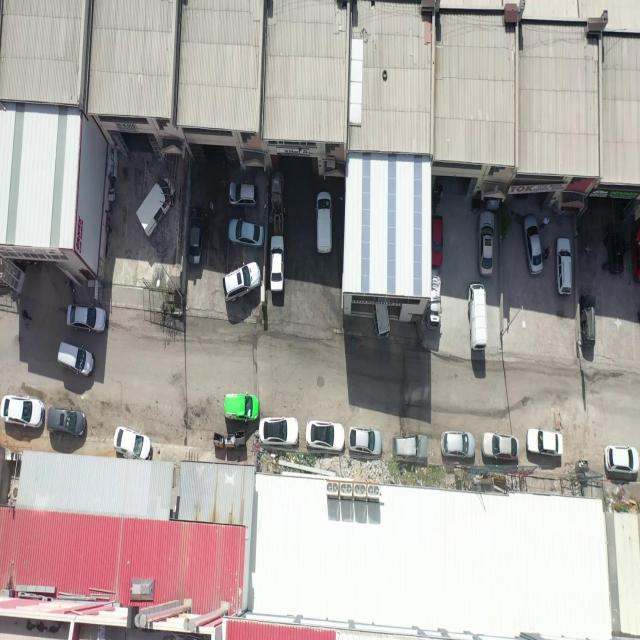p3rson: (539, 215, 550, 231), (63, 280, 75, 294), (22, 308, 32, 324), (543, 245, 552, 262), (209, 200, 216, 214)
